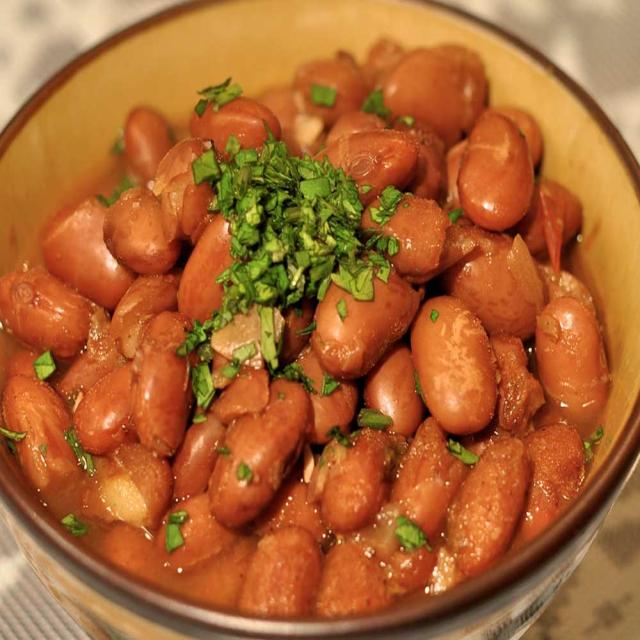frijoles: (9, 32, 618, 602)
